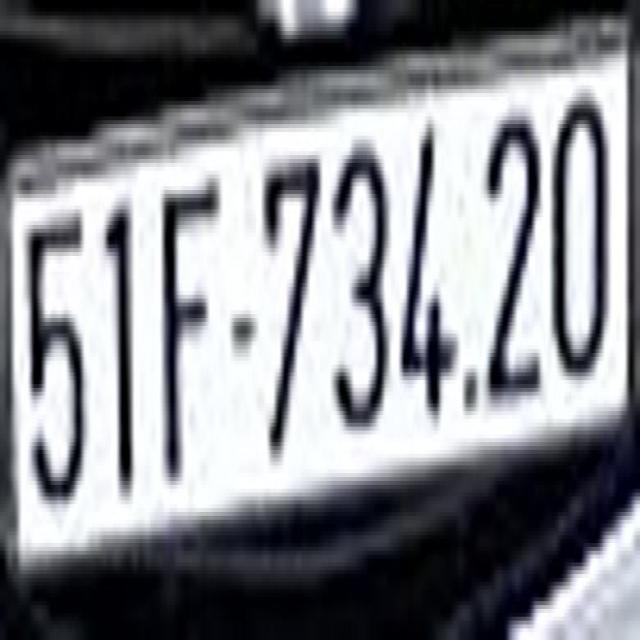0: (547, 89, 609, 419)
1: (95, 175, 148, 512)
2: (484, 89, 538, 442)
3: (326, 112, 389, 458)
4: (398, 109, 454, 462)
5: (26, 182, 84, 543)
7: (259, 109, 321, 450)
F: (156, 148, 215, 500)
